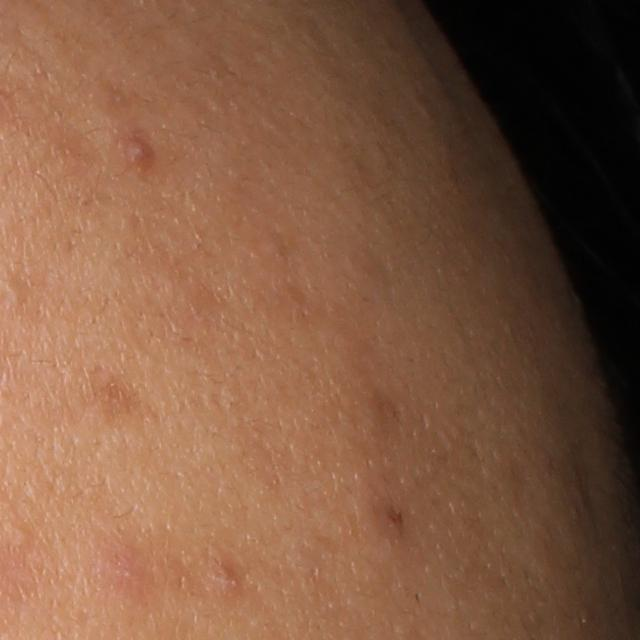comedo: (0, 273, 30, 308), (10, 528, 37, 552)
papule: (203, 555, 244, 598), (124, 138, 151, 173)
